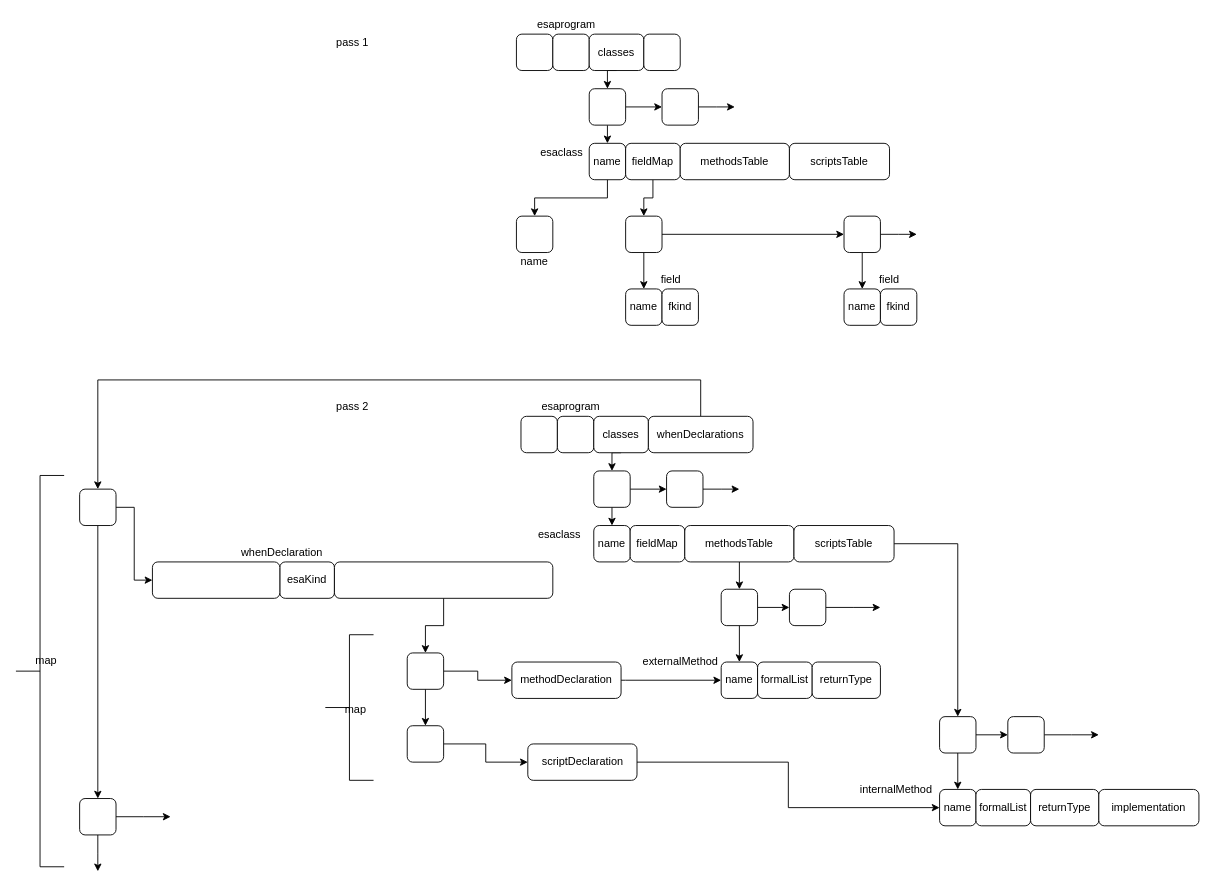
The diagram is 1215 pixels wide and 895 high, and some of its shapes have lost their labels. The centre of each missing label's shape, as x and y in pixels:
:string: (534,234)
methodDeclarationsAndScriptDeclarations: (443,579)
situationReferenceList: (216,579)
